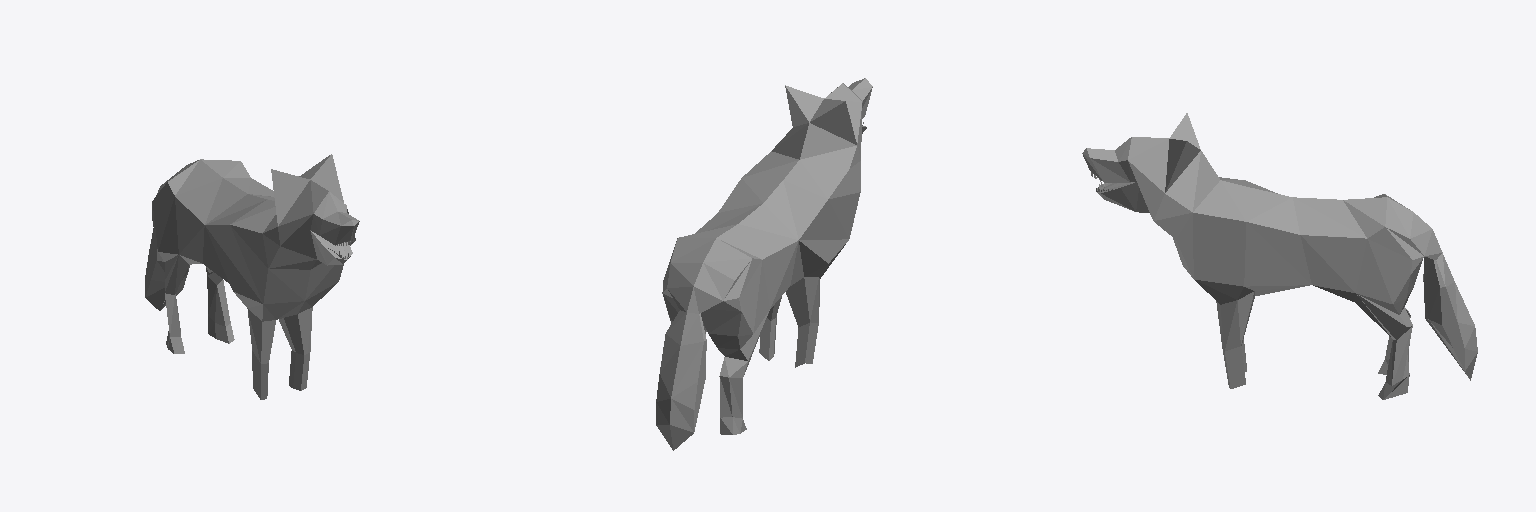
File: wolf.obj
The picture shows the model from 3 angles: view 1: azimuth 30°, elevation 25°; view 2: azimuth 150°, elevation 25°; view 3: azimuth 270°, elevation 25°; orthographic projection.
Bounding box in the file's own units: 0.2331 × 0.6673 × 0.9249.